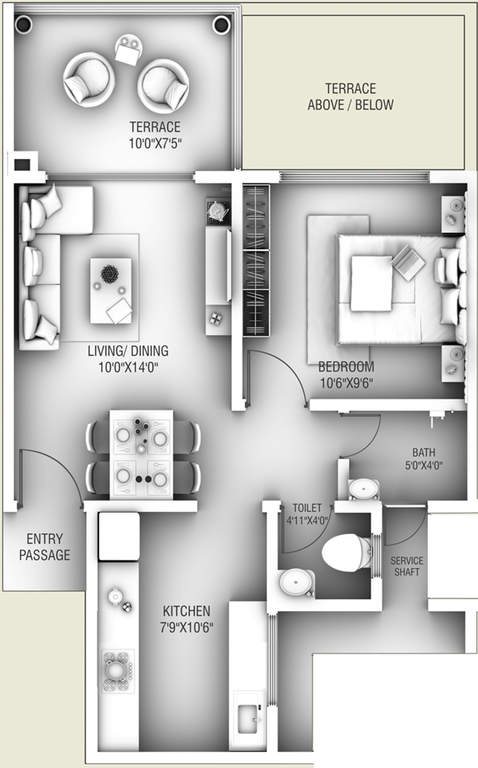balcony: (1, 4, 240, 184)
door: (15, 438, 79, 500), (243, 344, 297, 399), (277, 510, 323, 554), (341, 411, 387, 451), (382, 508, 416, 548)
room: (1, 172, 247, 513), (230, 166, 478, 413), (77, 497, 278, 768), (334, 399, 478, 513), (265, 500, 385, 615)
